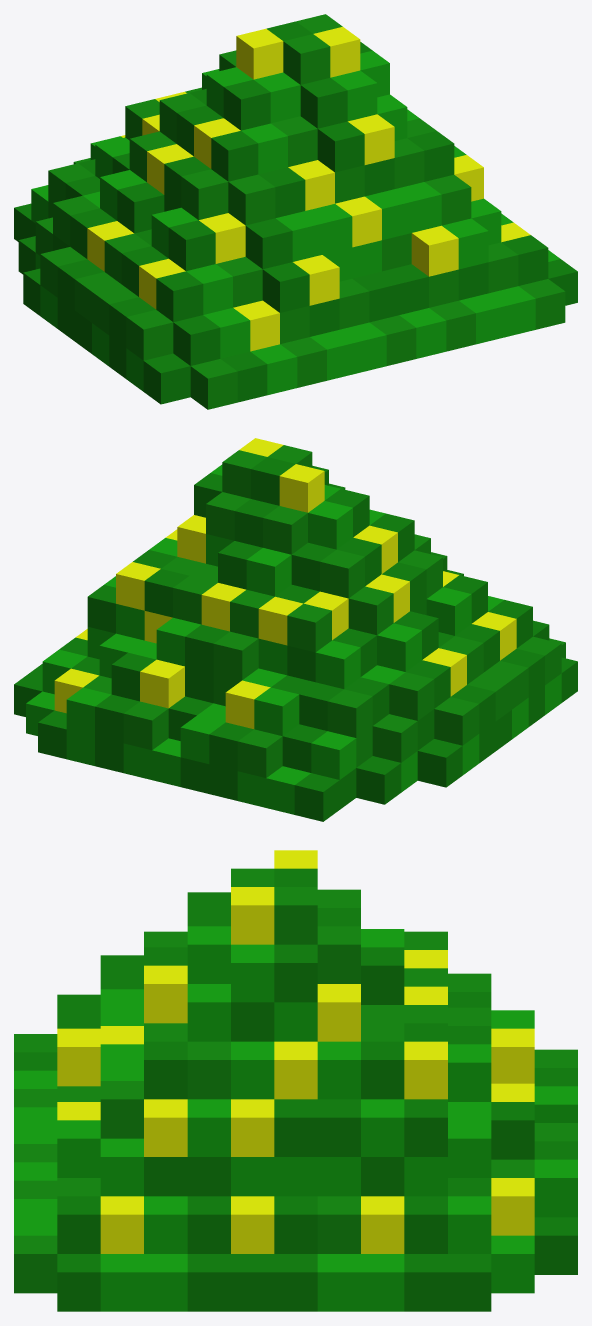
The model's file is Plants-4.obj.
The picture shows the model from 3 angles, top to bottom: view 1: azimuth 30°, elevation 25°; view 2: azimuth 150°, elevation 25°; view 3: azimuth 270°, elevation 25°; orthographic projection. The views are drawn at different scales.
Bounding box in the file's own units: 1.4 × 0.8 × 1.3.
Materials: 1 (1 with a texture image).
